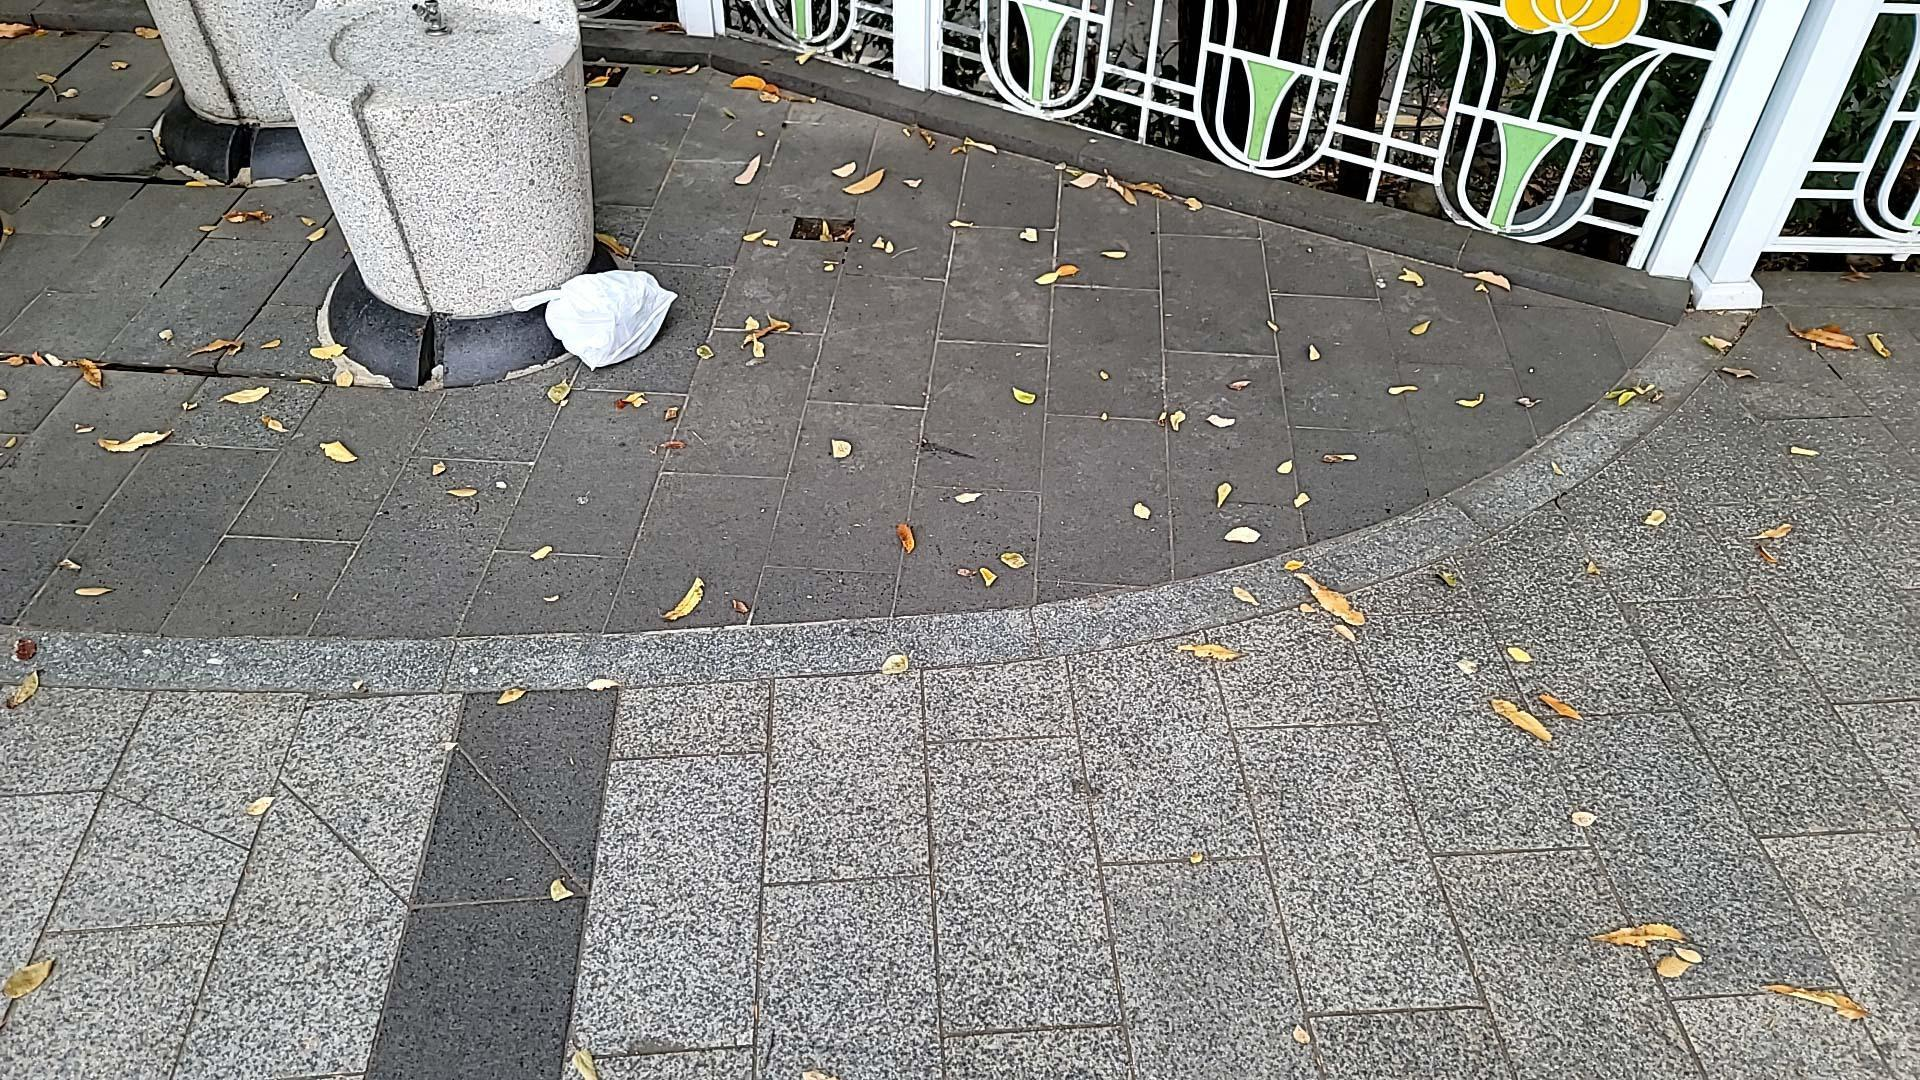white_bag: (497, 262, 684, 376)
